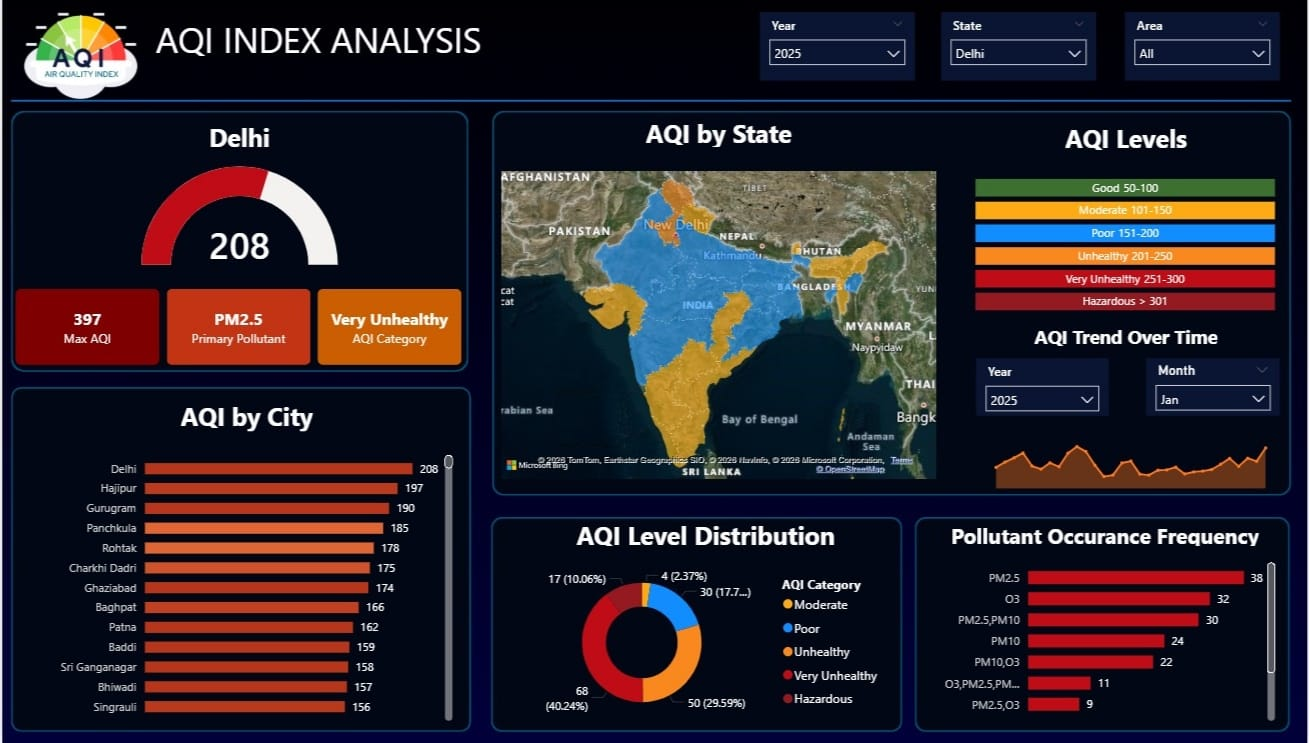

This screenshot's page, from the dashboard's own definition file:
{"tool":"powerbi","page":{"name":"AQI INDEX ANALYSIS","canvas":[1400,800],"ordinal":0},"visuals":[{"type":"shape","box":[9.4,122,490.6,280.2],"z":0},{"type":"textbox","box":[159.5,14.7,359.3,67],"z":1000},{"type":"image","box":[9.4,14.7,150.1,96.5],"z":2000},{"type":"gauge","fields":{"Y":["day_wise_aqi_data.Average AQI"]},"box":[104.6,176.9,300.3,115.3],"z":3000},{"type":"slicer","fields":{"Values":["Calendar Table.Year"]},"box":[812.3,16.1,166.2,73.7],"z":4000},{"type":"slicer","fields":{"Values":["day_wise_aqi_data.State"]},"box":[1006.7,16.1,166.2,73.7],"z":5000},{"type":"slicer","fields":{"Values":["day_wise_aqi_data.Area"]},"box":[1203.8,16.1,166.2,73.7],"z":6000},{"type":"cardVisual","fields":{"Data":["Max(day_wise_aqi_data.AQI_Value)","day_wise_aqi_data.Primary Pollutant","day_wise_aqi_data.AQI Category KPI"]},"box":[9.4,308.3,490.6,91.2],"z":7000},{"type":"shape","box":[525.5,122,856.6,412.9],"z":8000},{"type":"filledMap","fields":{"Category":["day_wise_aqi_data.State"]},"box":[530.8,182.3,475.9,339.1],"z":9000},{"type":"barChart","fields":{"Category":["day_wise_aqi_data.AQI Category"],"Y":["day_wise_aqi_data.Label"]},"box":[1038.9,182.3,331.1,159.5],"z":10000},{"type":"cardVisual","fields":{"Data":["day_wise_aqi_data.Title for monthly Chart"]},"box":[1045.6,341.8,319,42.9],"z":11000},{"type":"areaChart","fields":{"Category":["Calendar Table.Date.Variation.Date Hierarchy.Day"],"Y":["day_wise_aqi_data.Average AQI"]},"box":[1050.9,449.1,319,83.1],"z":12000},{"type":"cardVisual","fields":{"Data":["day_wise_aqi_data.State Map Title"]},"box":[530.8,122,475.9,44.2],"z":13000},{"type":"slicer","fields":{"Values":["Calendar Table.Date.Variation.Date Hierarchy.Year"]},"box":[1044.2,387.4,142.1,61.7],"z":14000},{"type":"slicer","fields":{"Values":["Calendar Table.Month"]},"box":[1226.5,387.4,143.4,61.7],"z":15000},{"type":"cardVisual","fields":{"Data":["day_wise_aqi_data.AQI  Level Title"]},"box":[1045.6,127.3,319,44.2],"z":16000},{"type":"shape","box":[9.4,418.2,493.3,370],"z":17000},{"type":"barChart","fields":{"Category":["day_wise_aqi_data.Area"],"Y":["day_wise_aqi_data.Average AQI"]},"box":[24.1,478.6,463.8,303],"z":18000},{"type":"cardVisual","fields":{"Data":["day_wise_aqi_data.Title For City"]},"box":[48.3,424.9,429,46.9],"z":19000},{"type":"shape","box":[524.1,557.6,441,230.6],"z":20000},{"type":"donutChart","fields":{"Category":["day_wise_aqi_data.AQI Category"],"Y":["day_wise_aqi_data.Count Of Rows"]},"box":[530.8,603.2,422.3,178.3],"z":21000},{"type":"cardVisual","fields":{"Data":["day_wise_aqi_data.KPI Title"]},"box":[9.4,122,490.6,55],"z":22000},{"type":"cardVisual","fields":{"Data":["day_wise_aqi_data.Donut Title"]},"box":[544.2,557.6,420.9,36.2],"z":23000},{"type":"shape","box":[978.6,557.6,402.1,230.6],"z":24000},{"type":"clusteredBarChart","fields":{"Category":["day_wise_aqi_data.prominent_pollutants"],"Y":["day_wise_aqi_data.Count Of Rows"]},"box":[993.3,593.8,376.7,187.7],"z":25000},{"type":"cardVisual","fields":{"Data":["day_wise_aqi_data.Pollutant Title"]},"box":[994.6,557.6,376.7,36.2],"z":26000},{"type":"shape","box":[9.4,22.8,1372.7,176.9],"z":27000}]}

Visuals, with their boxes in screenshot pixels (x1, y1, x2, y2), scaled from the page's 1400x800 canvas onto the 1309x743 screenshot:
shape: crop(9, 113, 468, 374)
textbox: crop(149, 14, 485, 76)
image: crop(9, 14, 149, 103)
gauge - day_wise_aqi_data.Average AQI: crop(98, 164, 379, 271)
slicer - Calendar Table.Year: crop(760, 15, 915, 83)
slicer - day_wise_aqi_data.State: crop(941, 15, 1097, 83)
slicer - day_wise_aqi_data.Area: crop(1126, 15, 1281, 83)
cardVisual - Max(day_wise_aqi_data.AQI_Value) x day_wise_aqi_data.Primary Pollutant: crop(9, 286, 468, 371)
shape: crop(491, 113, 1292, 497)
filledMap - day_wise_aqi_data.State: crop(496, 169, 941, 484)
barChart - day_wise_aqi_data.AQI Category x day_wise_aqi_data.Label: crop(971, 169, 1281, 317)
cardVisual - day_wise_aqi_data.Title for monthly Chart: crop(978, 317, 1276, 357)
areaChart - Calendar Table.Date.Variation.Date Hierarchy.Day x day_wise_aqi_data.Average AQI: crop(983, 417, 1281, 494)
cardVisual - day_wise_aqi_data.State Map Title: crop(496, 113, 941, 154)
slicer - Calendar Table.Date.Variation.Date Hierarchy.Year: crop(976, 360, 1109, 417)
slicer - Calendar Table.Month: crop(1147, 360, 1281, 417)
cardVisual - day_wise_aqi_data.AQI  Level Title: crop(978, 118, 1276, 159)
shape: crop(9, 388, 470, 732)
barChart - day_wise_aqi_data.Area x day_wise_aqi_data.Average AQI: crop(23, 444, 456, 726)
cardVisual - day_wise_aqi_data.Title For City: crop(45, 395, 446, 438)
shape: crop(490, 518, 902, 732)
donutChart - day_wise_aqi_data.AQI Category x day_wise_aqi_data.Count Of Rows: crop(496, 560, 891, 726)
cardVisual - day_wise_aqi_data.KPI Title: crop(9, 113, 468, 164)
cardVisual - day_wise_aqi_data.Donut Title: crop(509, 518, 902, 551)
shape: crop(915, 518, 1291, 732)
clusteredBarChart - day_wise_aqi_data.prominent_pollutants x day_wise_aqi_data.Count Of Rows: crop(929, 551, 1281, 726)
cardVisual - day_wise_aqi_data.Pollutant Title: crop(930, 518, 1282, 551)
shape: crop(9, 21, 1292, 185)
